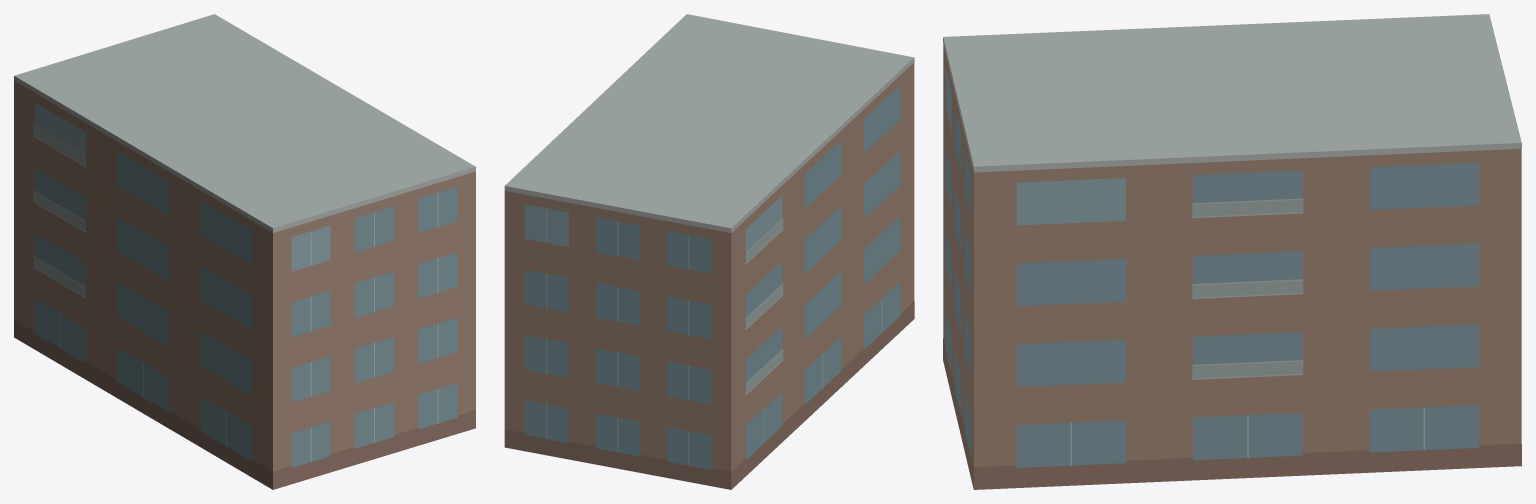
File: survey-upis-33037263.glb
The picture shows the model from 3 angles, left to right: view 1: azimuth 30°, elevation 25°; view 2: azimuth 150°, elevation 25°; view 3: azimuth 270°, elevation 25°; orthographic projection. The views are drawn at different scales.
Visible parts, largest first — view 1: survey-upis-33037263.tmp; view 2: survey-upis-33037263.tmp; view 3: survey-upis-33037263.tmp.
Boxes of the visible parts, <box> form: survey-upis-33037263.tmp: <box>14,14,475,489</box>; survey-upis-33037263.tmp: <box>504,14,914,489</box>; survey-upis-33037263.tmp: <box>943,14,1521,489</box>.
Bounding box in the file's own units: 13.53 × 13.35 × 21.67.
